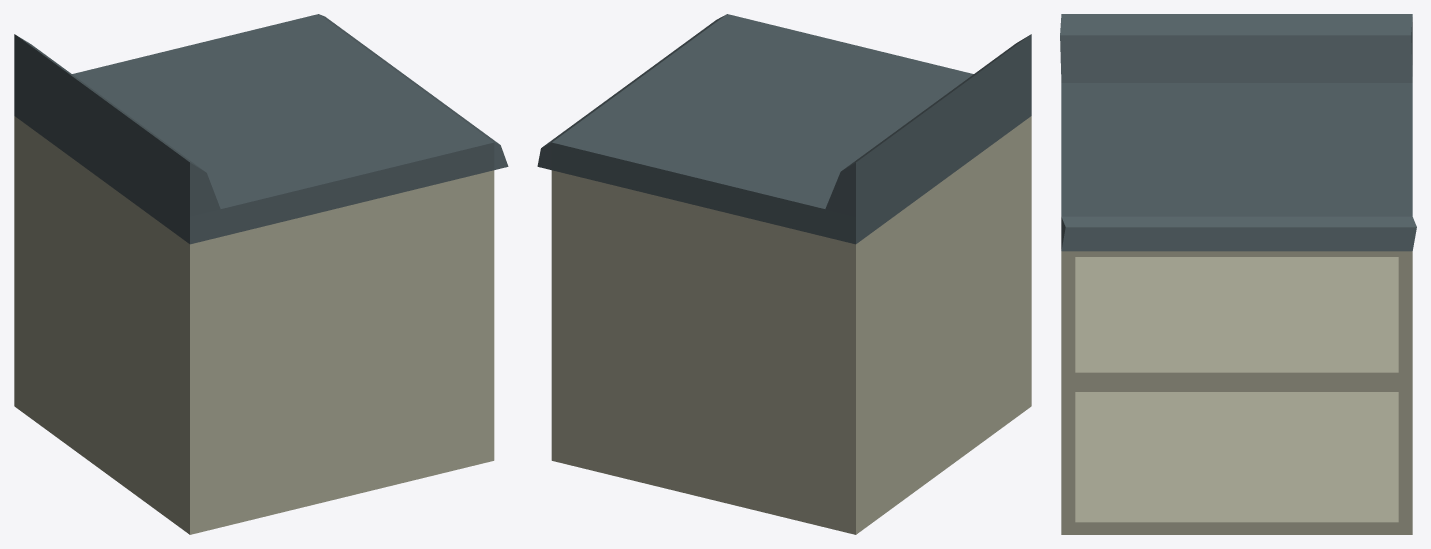
File: Open2DrawerCounter(Counter).fbx
3 views of the same model, side by side, from view 1: azimuth 30°, elevation 25°; view 2: azimuth 150°, elevation 25°; view 3: azimuth 270°, elevation 25° (orthographic).
Visible parts, largest first — view 1: Cube; view 2: Cube; view 3: Cube.
Part boxes in pixels (left/top/right/bottom): Cube: left=14, top=14, right=508, bottom=534; Cube: left=537, top=14, right=1031, bottom=534; Cube: left=1060, top=14, right=1416, bottom=534.
Size of the model in its own units: 523 by 539 by 603.
